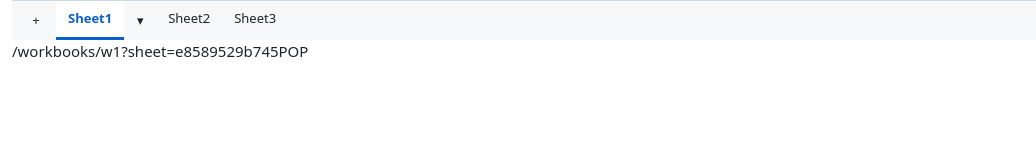
Scenario: SheetTabs › rename › cancels on blur with an invalid name
The image size is (1036, 160).
Double-click the tab with test id "sheet-tab" showing "Sheet1" at (90, 20), box [56,1,124,40]
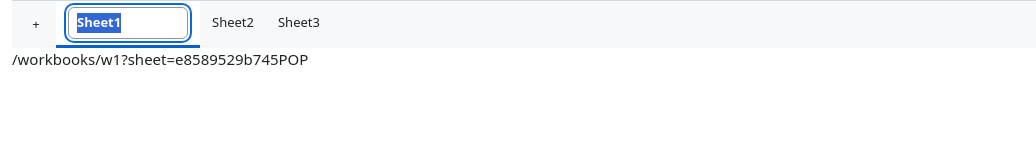
Replace the text in the field named "Sheet name" with "a:b" at (128, 23), box [68,7,188,39]
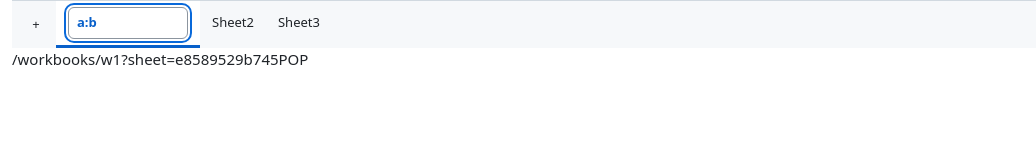
Leave the field named "Sheet name", box [68,7,188,39]
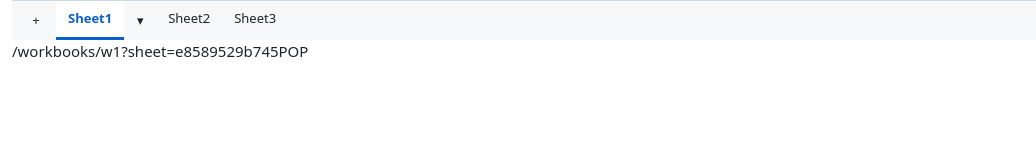
Expected: the text "Sheet1" is shown, [68,9,112,29]
